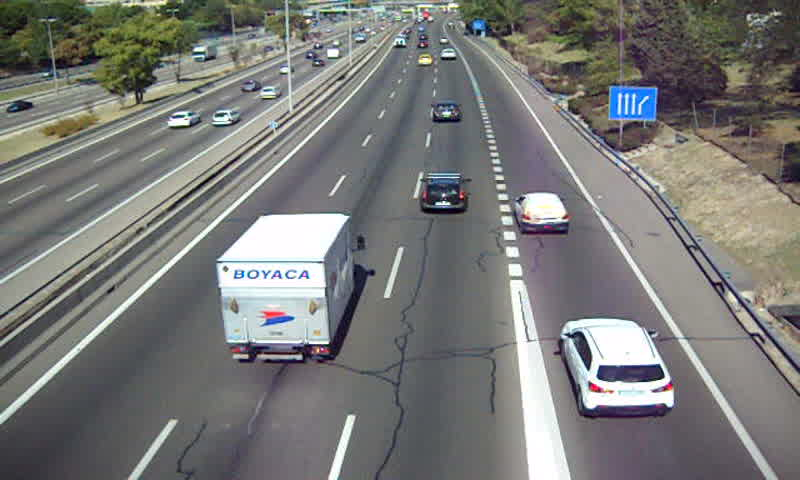car: (560, 318, 675, 418), (514, 192, 570, 233), (420, 172, 467, 212), (430, 102, 461, 123), (416, 53, 433, 66), (440, 48, 458, 60)
small-truck: (214, 212, 358, 361)
